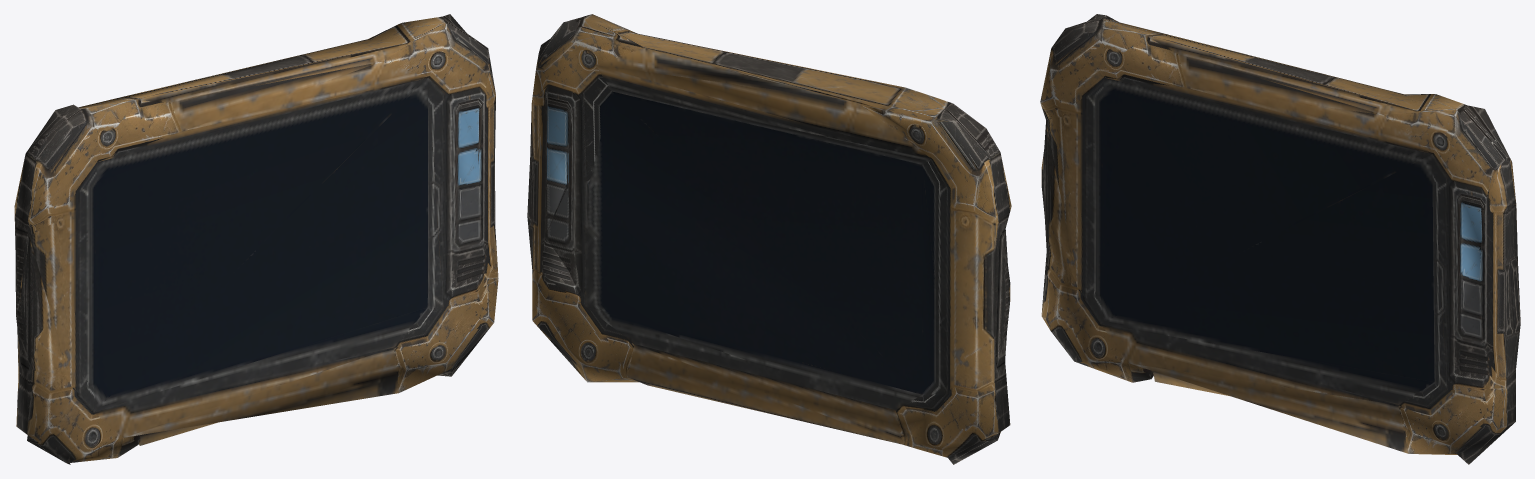
The model's file is gear-planshet.glb.
3 views of the same model, side by side, from view 1: azimuth 30°, elevation 25°; view 2: azimuth 150°, elevation 25°; view 3: azimuth 330°, elevation 25° (orthographic).
Visible parts, largest first — view 1: gear-planshet; view 2: gear-planshet; view 3: gear-planshet.
Part boxes in pixels (x1,y1,x2,y2): gear-planshet: [14, 14, 498, 464]; gear-planshet: [527, 14, 1011, 464]; gear-planshet: [1040, 14, 1520, 464].
Size of the model in its own units: 0.25 by 0.18 by 0.02.
1 material, 1 textured.
